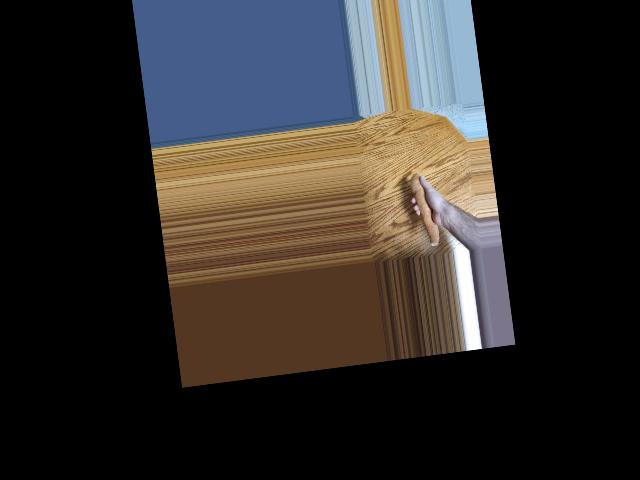sweet_potato: (408, 172, 444, 251)
